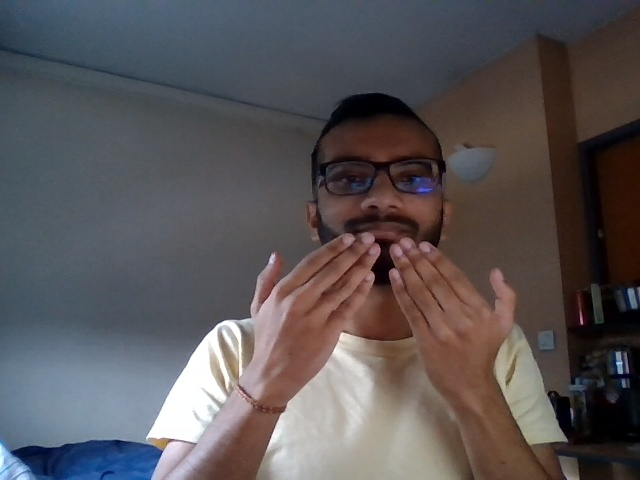Thanks: (221, 222, 526, 379)
